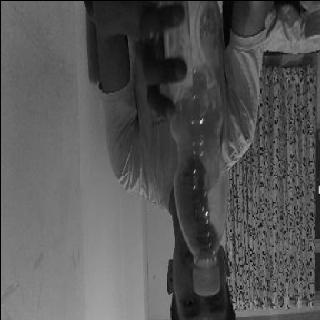plastic_bottles: (173, 1, 229, 292)
